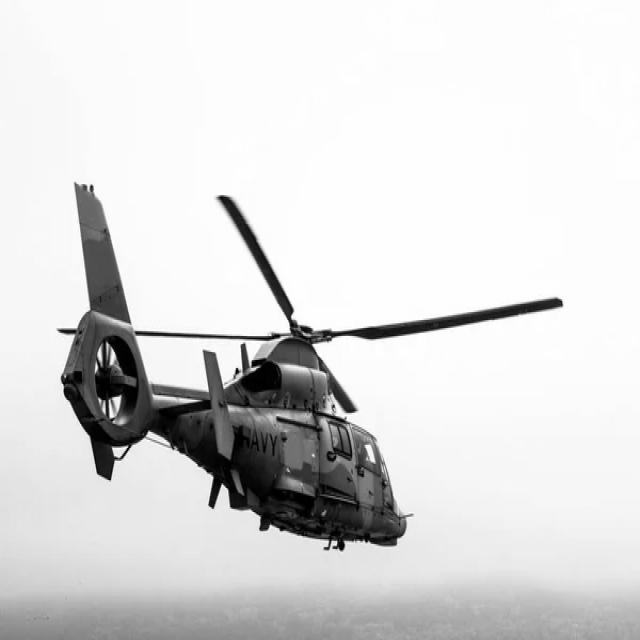Helicopter: (61, 185, 564, 550)
